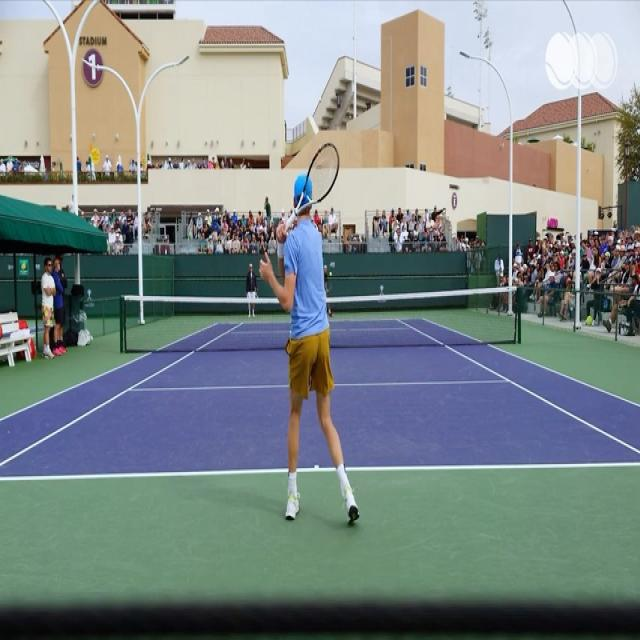forehand-finish: (260, 140, 360, 540)
